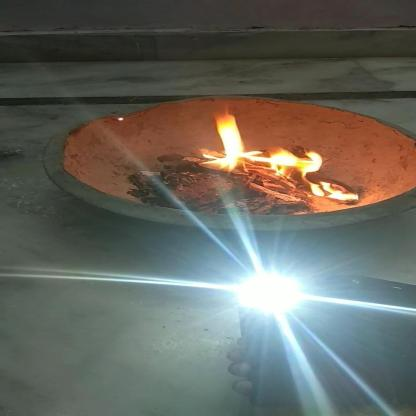fire: (186, 110, 328, 175), (305, 177, 366, 203)
